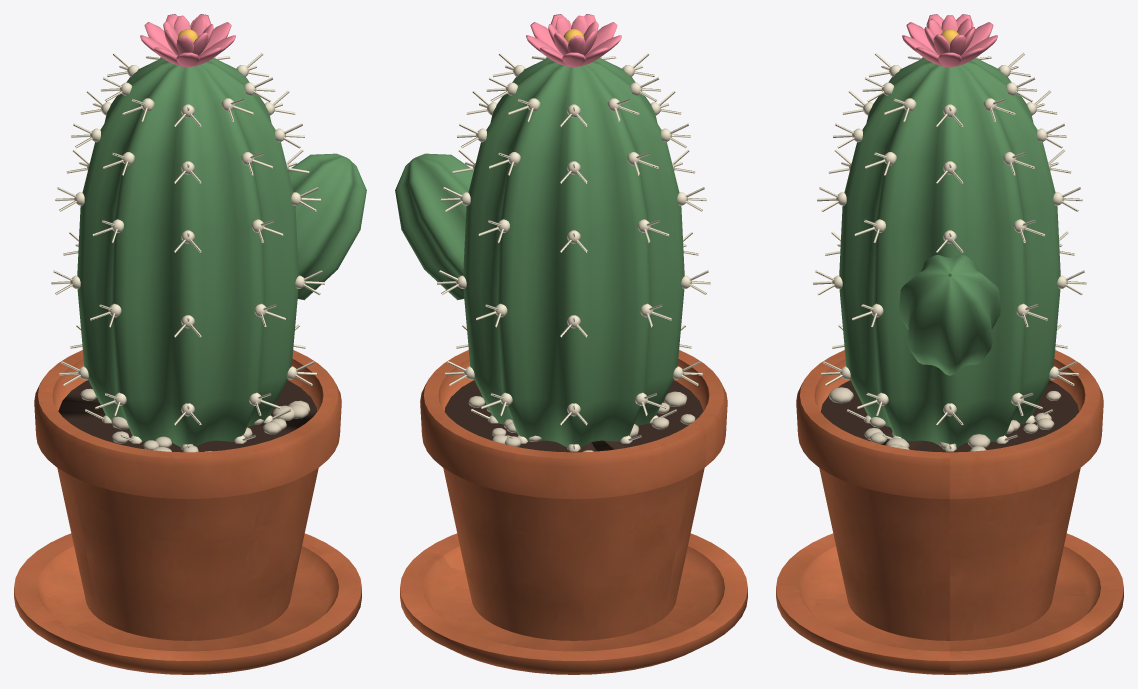
File: cactus.glb
3 renders of one model, left to right at view 1: azimuth 30°, elevation 25°; view 2: azimuth 150°, elevation 25°; view 3: azimuth 270°, elevation 25°, orthographic.
Parts seen in each view (by area): view 1: cactus_body, cactus_pot, cactus_spines, cactus_soil, cactus_petals, cactus_pebbles; view 2: cactus_body, cactus_pot, cactus_spines, cactus_soil, cactus_petals, cactus_pebbles; view 3: cactus_pot, cactus_body, cactus_spines, cactus_soil, cactus_petals, cactus_pebbles.
Boxes of the visible parts, x1=… form: cactus_body: x1=77, y1=58, x2=366, y2=447; cactus_pot: x1=14, y1=350, x2=361, y2=674; cactus_spines: x1=51, y1=53, x2=324, y2=449; cactus_soil: x1=58, y1=380, x2=317, y2=452; cactus_petals: x1=140, y1=14, x2=235, y2=66; cactus_pebbles: x1=80, y1=388, x2=310, y2=452; cactus_body: x1=395, y1=58, x2=684, y2=447; cactus_pot: x1=400, y1=350, x2=747, y2=674; cactus_spines: x1=437, y1=53, x2=710, y2=451; cactus_soil: x1=444, y1=380, x2=703, y2=452; cactus_petals: x1=526, y1=14, x2=621, y2=66; cactus_pebbles: x1=468, y1=391, x2=695, y2=451; cactus_pot: x1=776, y1=350, x2=1123, y2=674; cactus_body: x1=839, y1=58, x2=1060, y2=447; cactus_spines: x1=813, y1=53, x2=1086, y2=451; cactus_soil: x1=820, y1=380, x2=1079, y2=452; cactus_petals: x1=902, y1=14, x2=997, y2=66; cactus_pebbles: x1=829, y1=387, x2=1060, y2=451.
Size of the model in its own units: 0.4098 by 0.7029 by 0.38.
7 materials, 1 textured.
